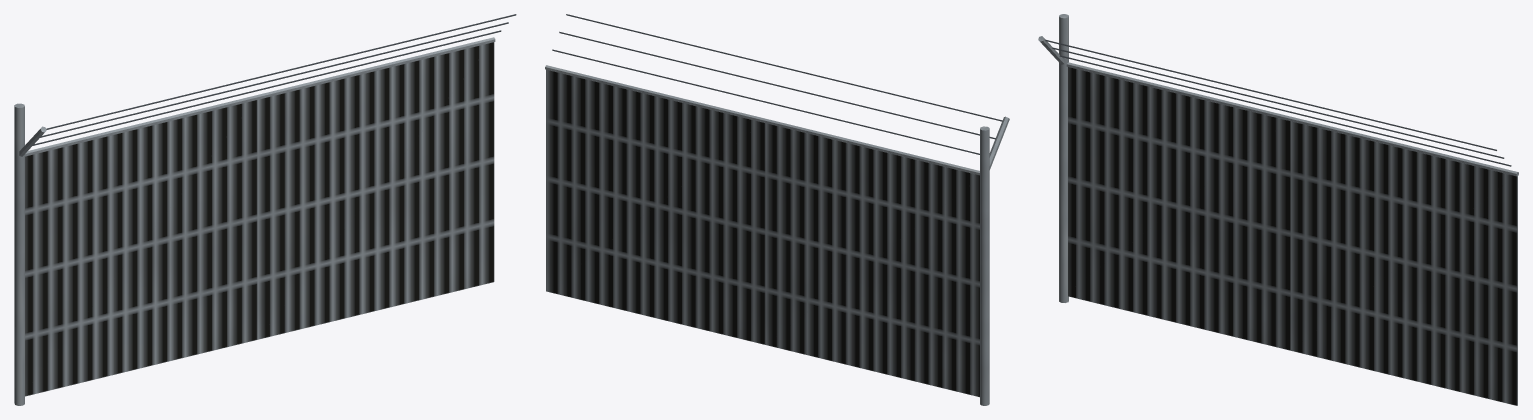
The model's file is fence_lc.obj.
The picture shows the model from 3 angles, left to right: view 1: azimuth 30°, elevation 25°; view 2: azimuth 150°, elevation 25°; view 3: azimuth 330°, elevation 25°; orthographic projection. The views are drawn at different scales.
Parts seen in each view (by area): view 1: fence_lc; view 2: fence_lc; view 3: fence_lc.
Part boxes in pixels (box(x1,y1,x2,y2)): fence_lc: box(14, 14, 516, 405); fence_lc: box(545, 14, 1009, 405); fence_lc: box(1038, 14, 1518, 405).
Bounding box in the file's own units: 4.04 × 2.4 × 0.4077.
1 material, 1 textured.
